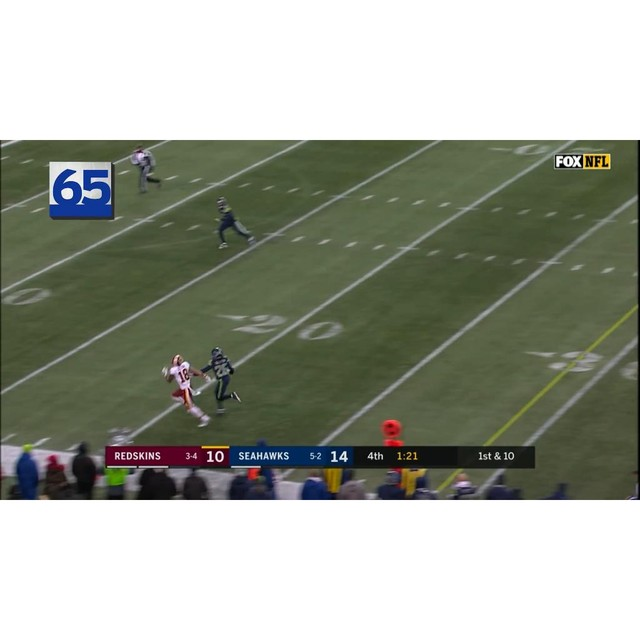american-football-player: (162, 354, 212, 427), (198, 348, 243, 415), (214, 196, 254, 249)
referee: (130, 144, 162, 194)
